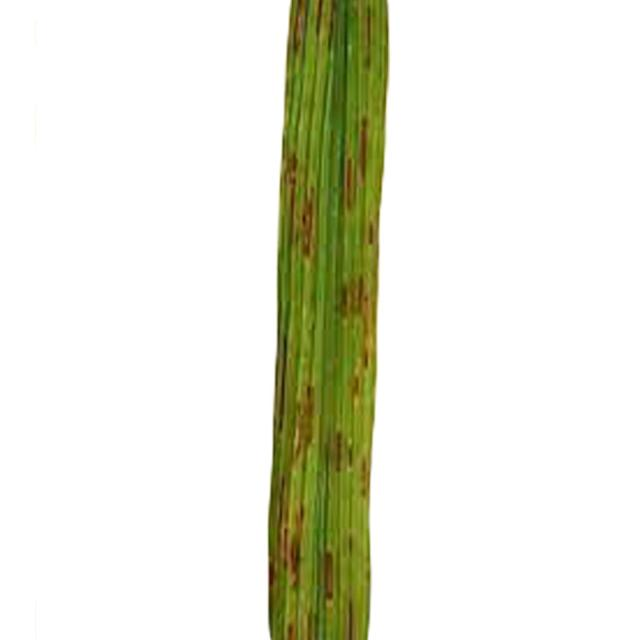Brown spot: (237, 0, 486, 640)
